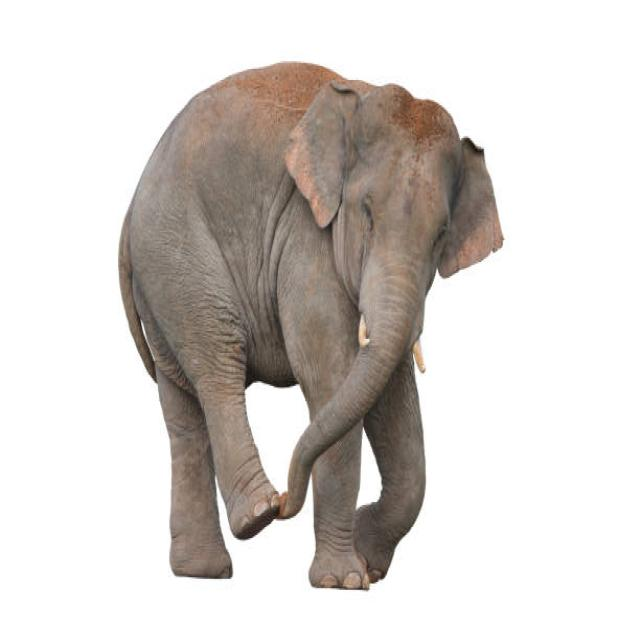Elephant: (115, 51, 507, 596)
